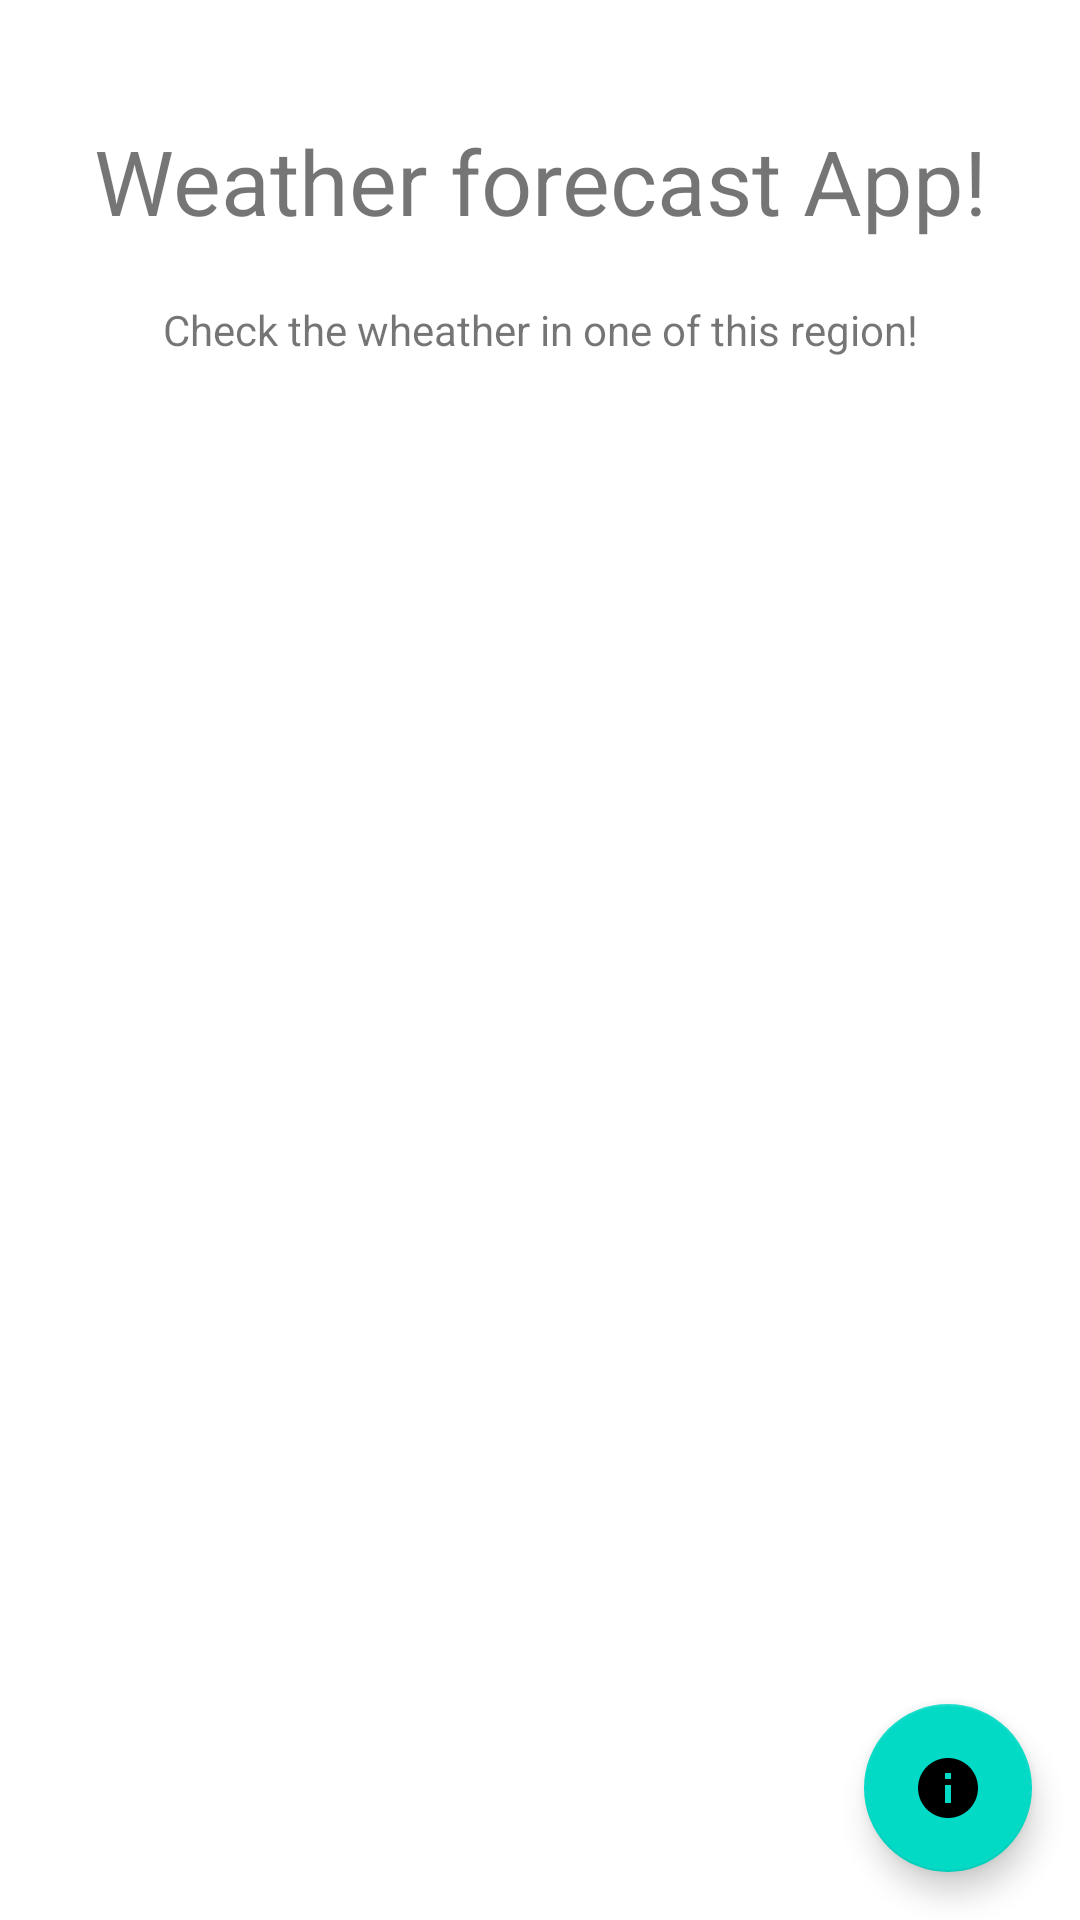

Icon bounding boxes for this 1080px x 1920px phone screenshot, format Rect(x1, y1, x2, y2):
info: Rect(864, 1704, 1032, 1872)
